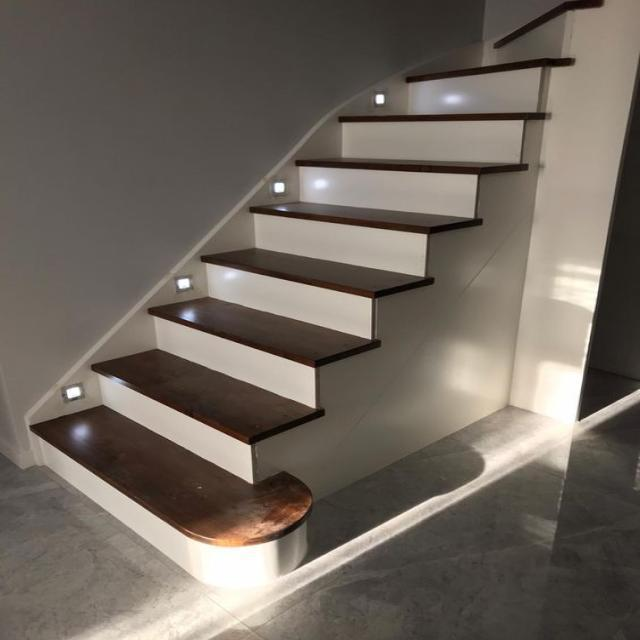stairs: (25, 1, 603, 590)
